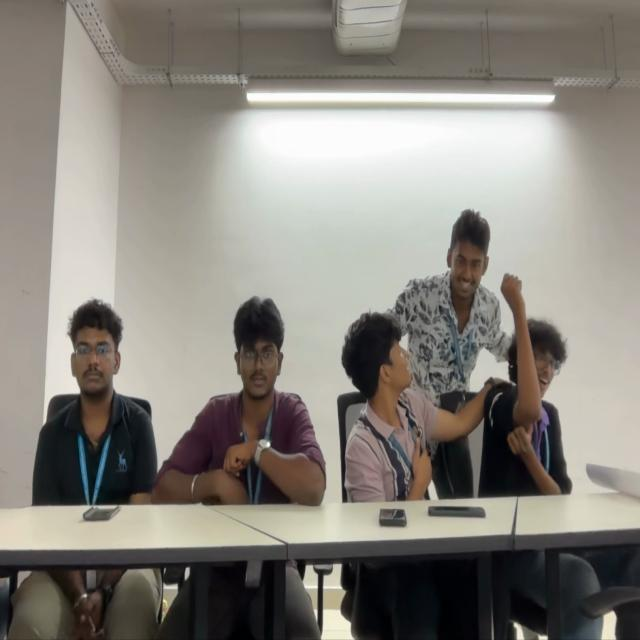Isolated: (158, 296, 326, 507), (33, 289, 154, 502)
socializing: (340, 204, 574, 496)
